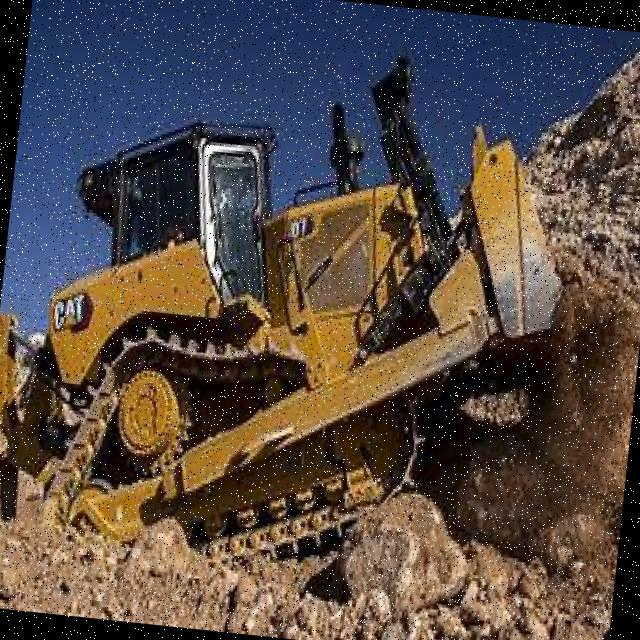Bulldozer: (0, 10, 630, 640)
